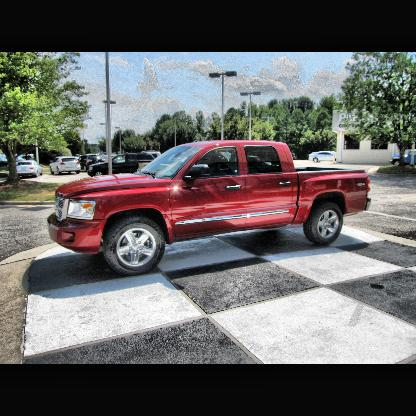Dodge Dakota Crew Cab 2010: (50, 140, 375, 276)
